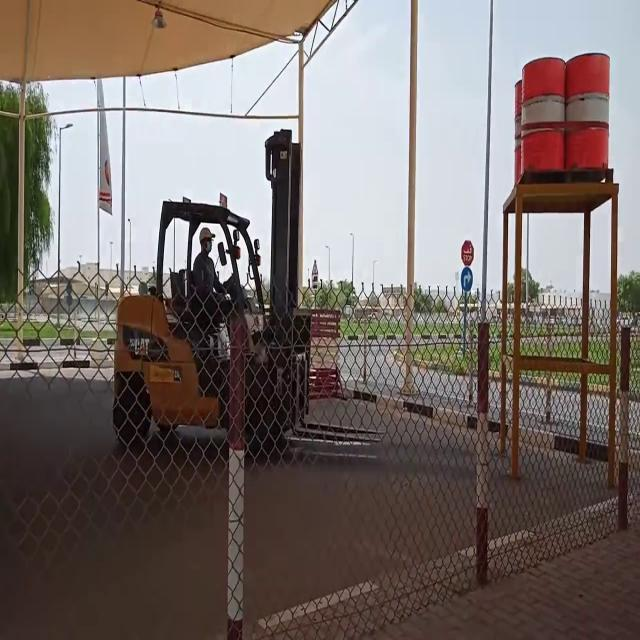forklift: (115, 195, 298, 433)
